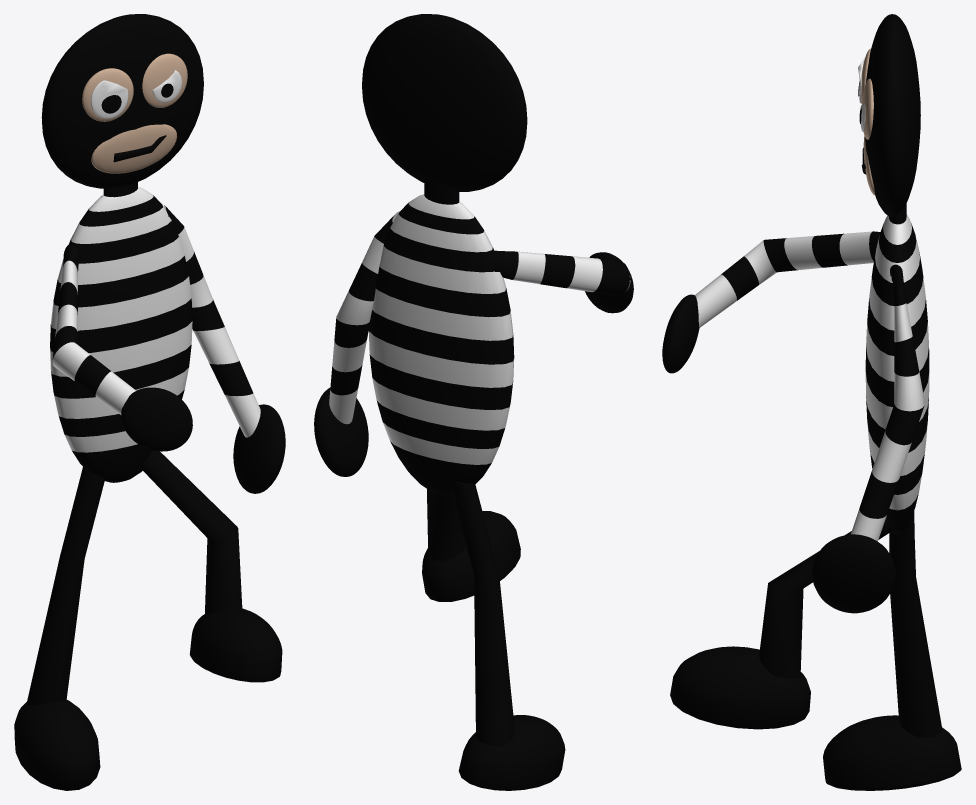
File: Burglar2.fbx
The picture shows the model from 3 angles, left to right: view 1: azimuth 30°, elevation 25°; view 2: azimuth 150°, elevation 25°; view 3: azimuth 270°, elevation 25°; orthographic projection. The views are drawn at different scales.
Visible parts, largest first — view 1: pSphere1, pSphere2, pCylinder1, pasted__pasted__pasted__pasted__pSphere1, pasted__pCylinder1, pasted__pasted__pasted__pSphere1, pasted__pasted__pasted__pCylinder1, pasted__pasted__pCylinder1, pasted__pSphere5, pSphere5, pSphere4, pasted__pSphere3 (+2 smaller); view 2: pSphere1, pSphere2, pCylinder1, pasted__pasted__pasted__pasted__pSphere1, pasted__pasted__pasted__pCylinder1, pasted__pasted__pCylinder1, pasted__pasted__pasted__pSphere1, pSphere5, pasted__pCylinder1, pasted__pSphere5, pCylinder2; view 3: pSphere1, pasted__pasted__pasted__pSphere1, pSphere2, pasted__pasted__pasted__pasted__pSphere1, pasted__pasted__pasted__pCylinder1, pCylinder1, pasted__pasted__pCylinder1, pSphere5, pasted__pCylinder1, pasted__pSphere5, pasted__pSphere3.
Part boxes in pixels (<box>): pSphere1: <box>50,187,192,482</box>; pSphere2: <box>41,14,203,188</box>; pCylinder1: <box>26,467,104,705</box>; pasted__pasted__pasted__pasted__pSphere1: <box>14,700,100,790</box>; pasted__pCylinder1: <box>141,450,242,613</box>; pasted__pasted__pasted__pSphere1: <box>189,607,282,682</box>; pasted__pasted__pasted__pCylinder1: <box>164,205,260,437</box>; pasted__pasted__pCylinder1: <box>52,244,135,414</box>; pasted__pSphere5: <box>121,387,192,451</box>; pSphere5: <box>233,404,285,493</box>; pSphere4: <box>91,124,177,173</box>; pasted__pSphere3: <box>142,53,187,107</box>; pSphere1: <box>368,194,514,495</box>; pSphere2: <box>362,14,527,191</box>; pCylinder1: <box>450,481,514,746</box>; pasted__pasted__pasted__pasted__pSphere1: <box>458,715,565,790</box>; pasted__pasted__pasted__pCylinder1: <box>329,211,399,424</box>; pasted__pasted__pCylinder1: <box>491,250,630,295</box>; pasted__pasted__pasted__pSphere1: <box>422,511,520,601</box>; pSphere5: <box>314,388,368,476</box>; pasted__pCylinder1: <box>427,489,465,561</box>; pasted__pSphere5: <box>585,252,633,313</box>; pCylinder2: <box>424,181,459,204</box>; pSphere1: <box>865,214,929,534</box>; pasted__pasted__pasted__pSphere1: <box>670,646,810,729</box>; pSphere2: <box>865,14,920,216</box>; pasted__pasted__pasted__pasted__pSphere1: <box>823,715,961,790</box>; pasted__pasted__pasted__pCylinder1: <box>850,264,924,541</box>; pCylinder1: <box>889,511,942,737</box>; pasted__pasted__pCylinder1: <box>695,231,880,327</box>; pSphere5: <box>812,534,895,613</box>; pasted__pCylinder1: <box>759,518,892,678</box>; pasted__pSphere5: <box>662,294,699,373</box>; pasted__pSphere3: <box>862,78,873,139</box>.
Size of the model in its own units: 6.5 by 17.4 by 5.91.
